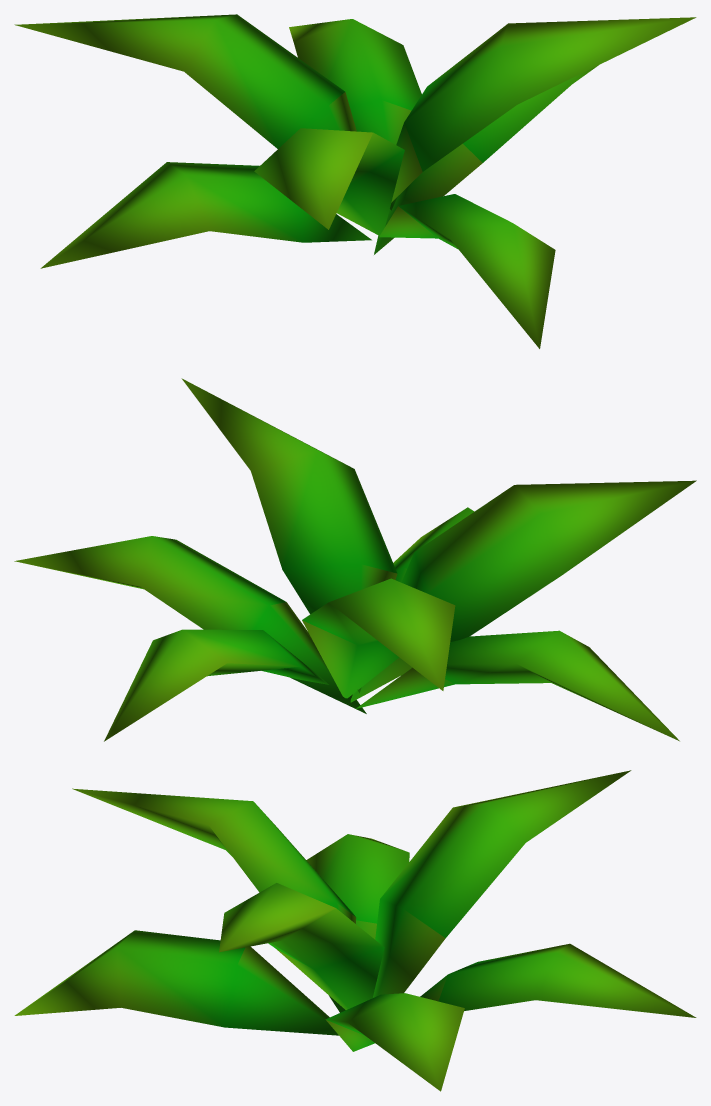
The model's file is bush_c.glb.
3 views of the same model, one above another, from view 1: azimuth 30°, elevation 25°; view 2: azimuth 150°, elevation 25°; view 3: azimuth 270°, elevation 25° (orthographic).
Parts seen in each view (by area): view 1: bush_c; view 2: bush_c; view 3: bush_c.
Part boxes in pixels (left/top/right/bottom): bush_c: left=14, top=14, right=696, bottom=348; bush_c: left=14, top=378, right=696, bottom=741; bush_c: left=14, top=770, right=696, bottom=1091.
Size of the model in its own units: 4.21 by 1.43 by 3.99.
